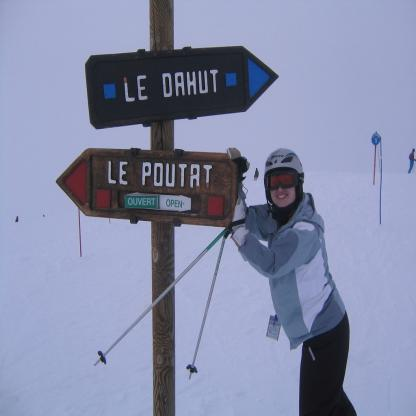Helmet: (263, 148, 307, 226)
